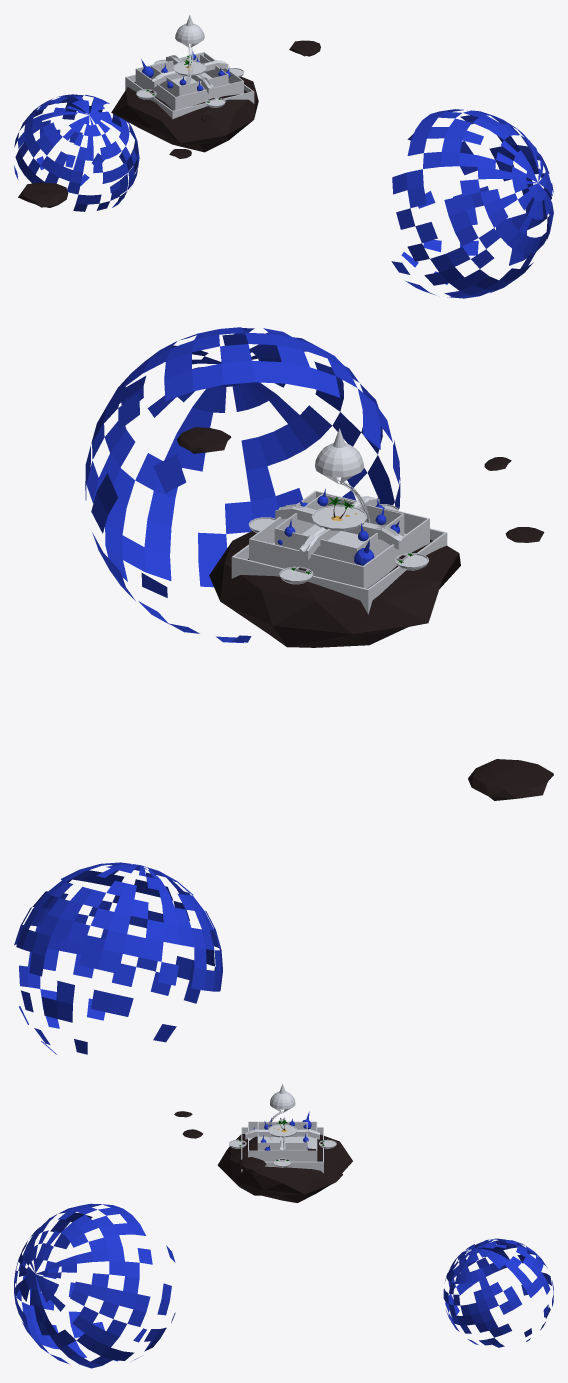
The model's file is citadel.dae.
The picture shows the model from 3 angles, top to bottom: view 1: azimuth 30°, elevation 25°; view 2: azimuth 150°, elevation 25°; view 3: azimuth 270°, elevation 25°; orthographic projection. The views are drawn at different scales.
Visible parts, largest first — view 1: Sphere_006, Sphere_007, Icosphere_001, Cube_002, Cube_001, Icosphere_014, Cube_003, Cube, Sphere, Icosphere_011, Sphere_005; view 2: Sphere_006, Sphere_007, Icosphere_001, Cube_002, Cube_001, Icosphere_014, Cube_003, Cube, Sphere, Sphere_005, Icosphere_011; view 3: Sphere_006, Sphere_007, Icosphere_001, Cube_002, Cube_001, Cube, Sphere, Cube_003.
Part boxes in pixels (x1=…): Sphere_006: x1=391, y1=109, x2=553, y2=298; Sphere_007: x1=14, y1=94, x2=139, y2=211; Icosphere_001: x1=111, y1=76, x2=258, y2=152; Cube_002: x1=135, y1=52, x2=243, y2=110; Cube_001: x1=151, y1=54, x2=228, y2=96; Icosphere_014: x1=18, y1=182, x2=68, y2=207; Cube_003: x1=125, y1=74, x2=254, y2=119; Cube: x1=151, y1=55, x2=228, y2=93; Sphere: x1=175, y1=15, x2=204, y2=84; Icosphere_011: x1=289, y1=40, x2=320, y2=56; Sphere_005: x1=173, y1=60, x2=206, y2=75; Sphere_006: x1=85, y1=327, x2=400, y2=643; Sphere_007: x1=14, y1=862, x2=222, y2=1054; Icosphere_001: x1=209, y1=531, x2=460, y2=647; Cube_002: x1=249, y1=490, x2=429, y2=588; Cube_001: x1=274, y1=493, x2=404, y2=563; Icosphere_014: x1=468, y1=759, x2=553, y2=800; Cube_003: x1=231, y1=528, x2=447, y2=614; Cube: x1=275, y1=496, x2=403, y2=560; Sphere: x1=315, y1=428, x2=371, y2=538; Sphere_005: x1=311, y1=505, x2=367, y2=530; Icosphere_011: x1=176, y1=427, x2=231, y2=453; Sphere_006: x1=14, y1=1203, x2=175, y2=1368; Sphere_007: x1=443, y1=1238, x2=553, y2=1347; Icosphere_001: x1=217, y1=1134, x2=352, y2=1202; Cube_002: x1=248, y1=1121, x2=317, y2=1161; Cube_001: x1=257, y1=1122, x2=307, y2=1150; Cube: x1=245, y1=1117, x2=319, y2=1154; Sphere: x1=267, y1=1084, x2=295, y2=1140; Cube_003: x1=241, y1=1127, x2=323, y2=1173.
Bounding box in the file's own units: 34.89 × 47.41 × 23.95.
